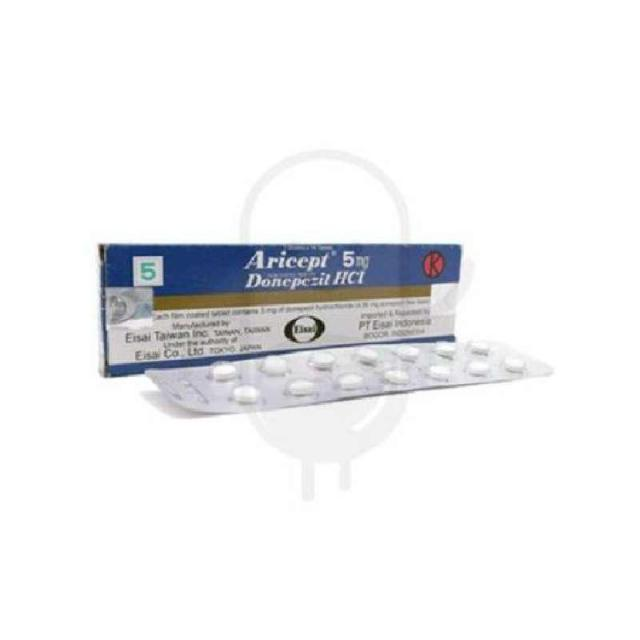drug-name: (242, 249, 335, 272)
